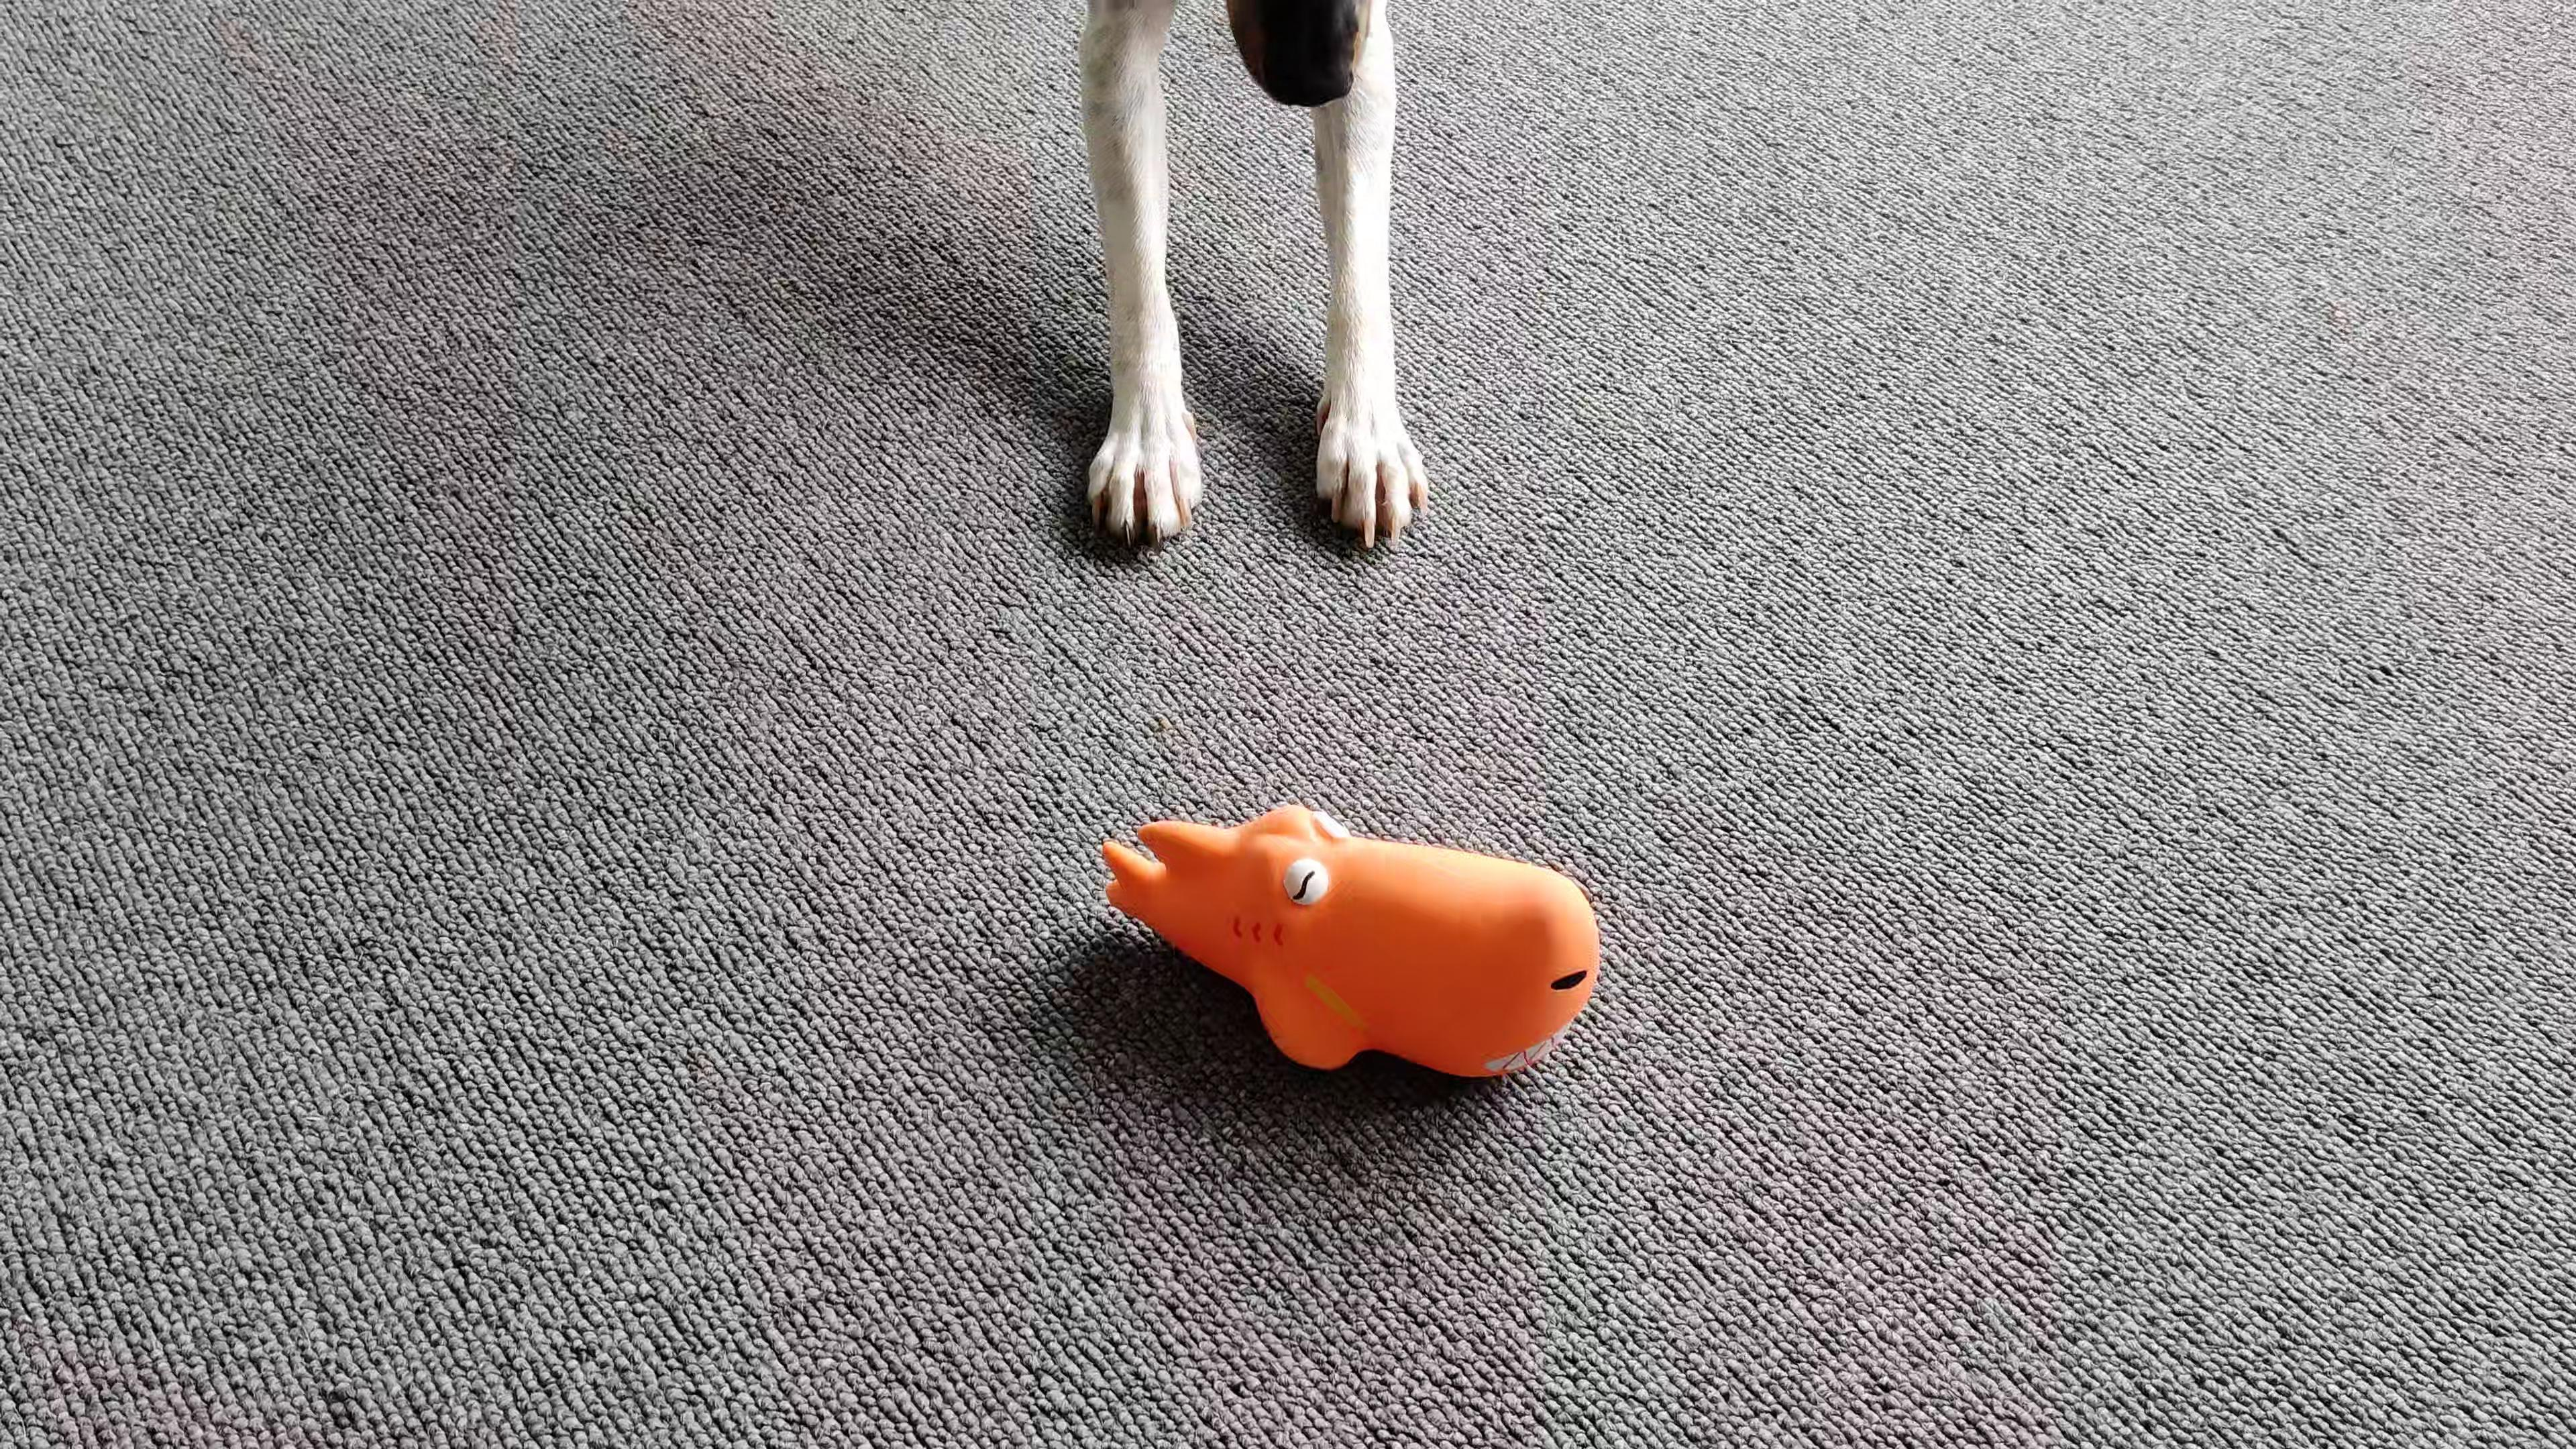Dog: (1024, 0, 1440, 591)
